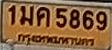letters: (35, 6, 51, 29), (19, 5, 35, 27), (95, 9, 108, 33), (68, 7, 82, 29), (55, 6, 68, 29), (6, 4, 17, 27), (82, 10, 94, 31)
province: (17, 32, 96, 48)
